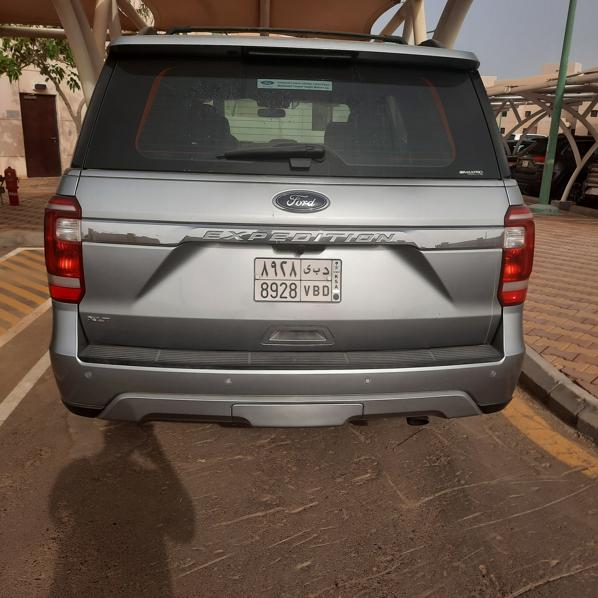numberplate: (253, 256, 342, 305)
